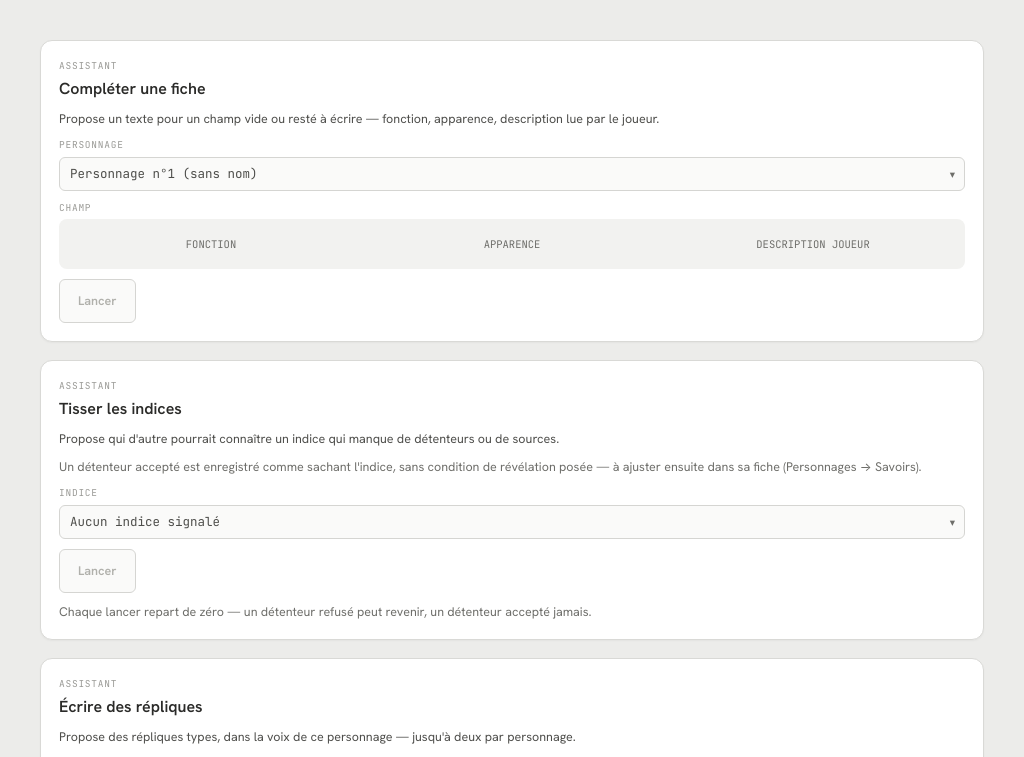
PanneauCopilote - chargement, Annuler, Echap (carte 1) › au clic sur Lancer : role status apparait avec le texte de chargement, focus sur Annuler
This screenshot has width=1024, height=757.
Click the radio button labelled "FONCTION": click(211, 244) [62,222,360,266]
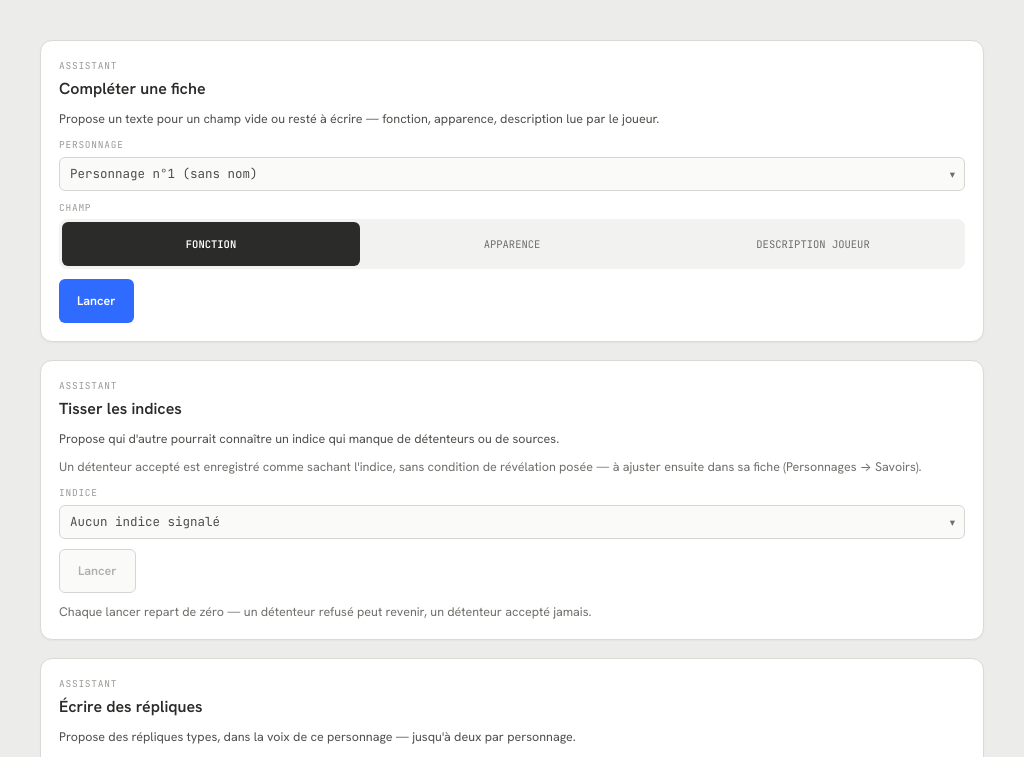
Click the button "Lancer" below "Compléter une fiche": click(96, 301) [59,279,134,323]
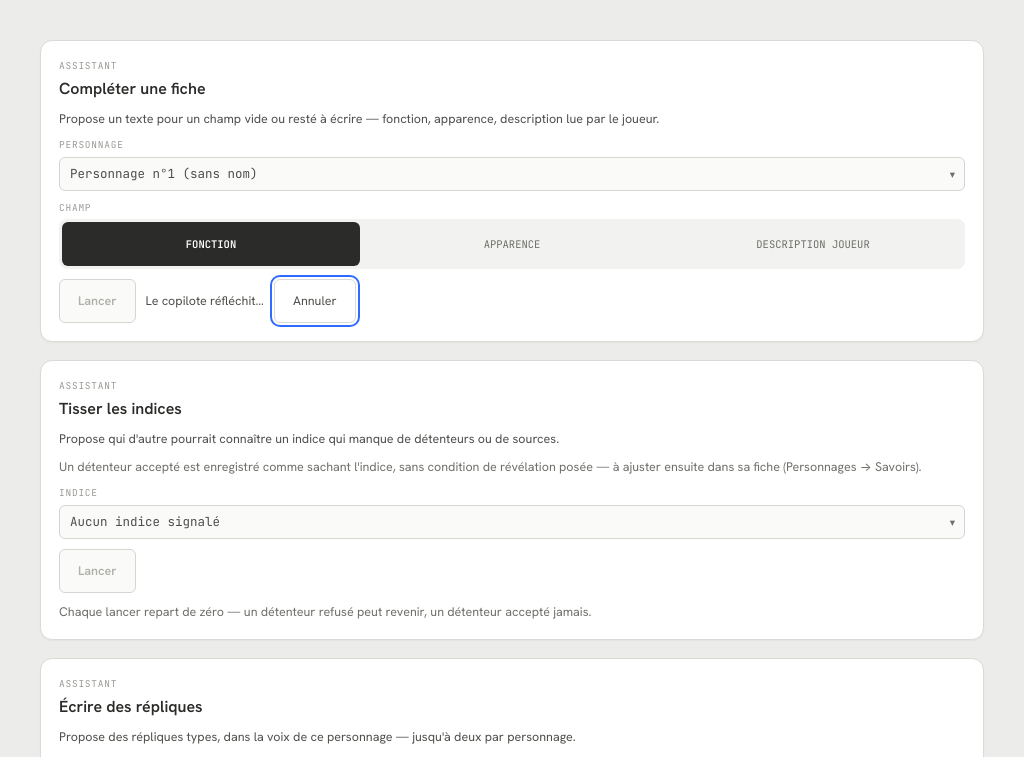
Expected: the text "Le copilote réfléchit…" is shown, [146,292,264,310]
Expected: the button "Lancer" next to "Le copilote réfléchit…" is disabled, [59,279,136,323]
